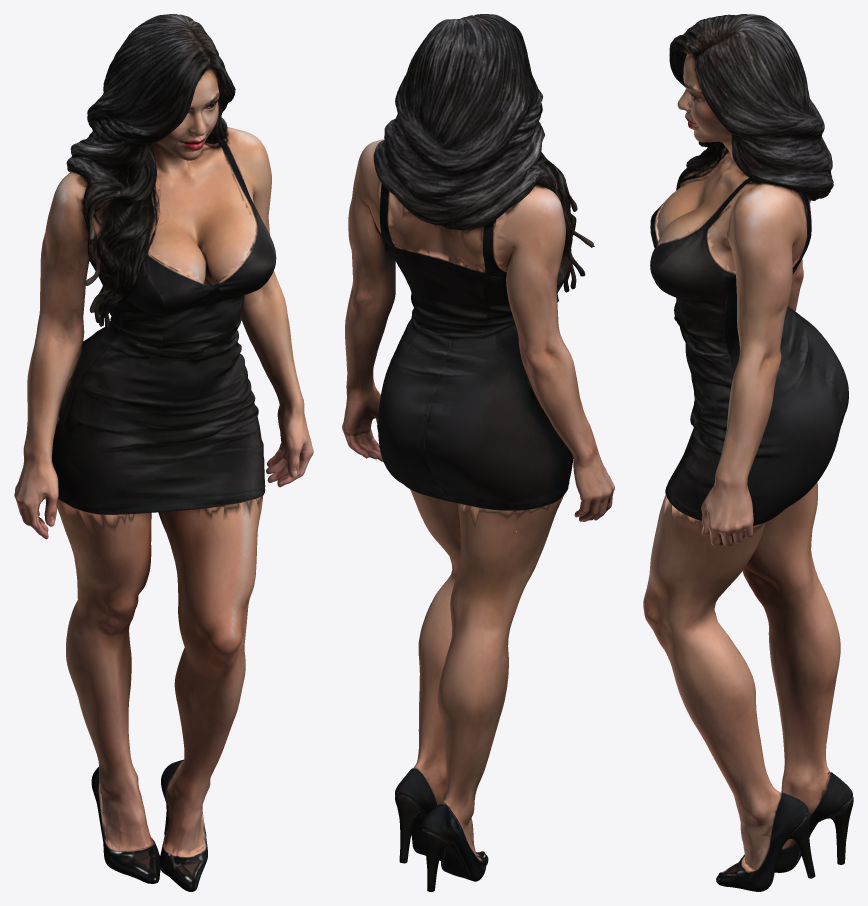
Rendered from noir.glb.
3 views of the same model, side by side, from view 1: azimuth 30°, elevation 25°; view 2: azimuth 150°, elevation 25°; view 3: azimuth 270°, elevation 25° (orthographic). The views are drawn at different scales.
Parts seen in each view (by area): view 1: tripo_node_6110e033-fbff-4bcb-97a8-e85288f6772c; view 2: tripo_node_6110e033-fbff-4bcb-97a8-e85288f6772c; view 3: tripo_node_6110e033-fbff-4bcb-97a8-e85288f6772c.
Part boxes in pixels (x1=…): tripo_node_6110e033-fbff-4bcb-97a8-e85288f6772c: x1=14, y1=14, x2=313, y2=891; tripo_node_6110e033-fbff-4bcb-97a8-e85288f6772c: x1=342, y1=14, x2=614, y2=891; tripo_node_6110e033-fbff-4bcb-97a8-e85288f6772c: x1=643, y1=14, x2=853, y2=891.
Bounding box in the file's own units: 0.3341 × 0.9787 × 0.2167.
Materials: 1 (1 with a texture image).
